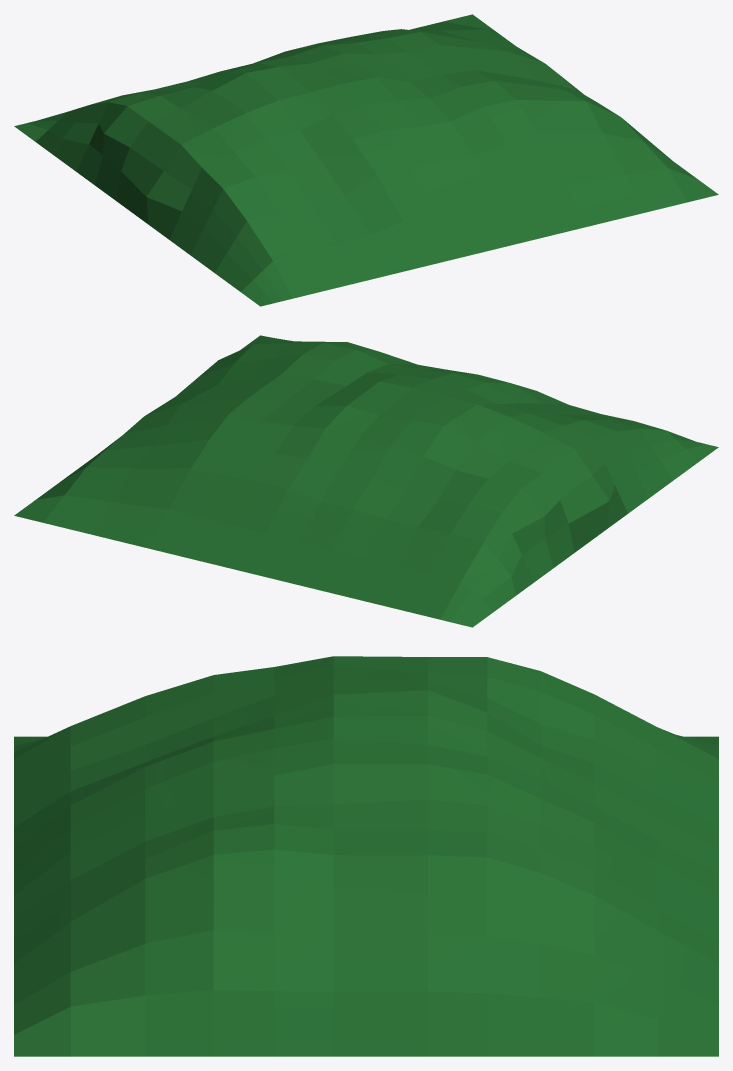
File: Hill_01.fbx
The picture shows the model from 3 angles, top to bottom: view 1: azimuth 30°, elevation 25°; view 2: azimuth 150°, elevation 25°; view 3: azimuth 270°, elevation 25°; orthographic projection. The views are drawn at different scales.
Visible parts, largest first — view 1: Hill_01; view 2: Hill_01; view 3: Hill_01.
Part boxes in pixels (bbox=[...]): Hill_01: bbox=[14, 14, 718, 306]; Hill_01: bbox=[14, 335, 718, 627]; Hill_01: bbox=[14, 656, 718, 1056].
Size of the model in its own units: 1719 by 342 by 1592.
